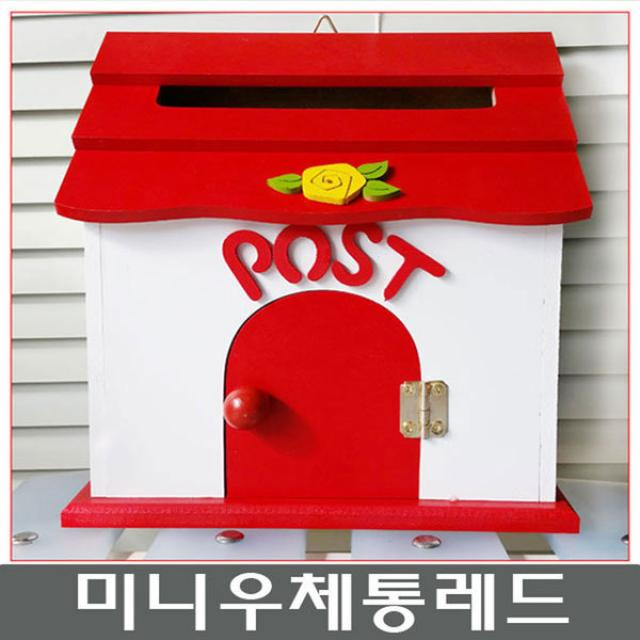Post Box: (50, 31, 580, 531)
